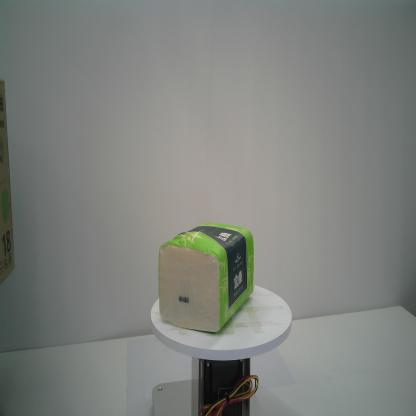Tissue: (158, 220, 255, 334)
